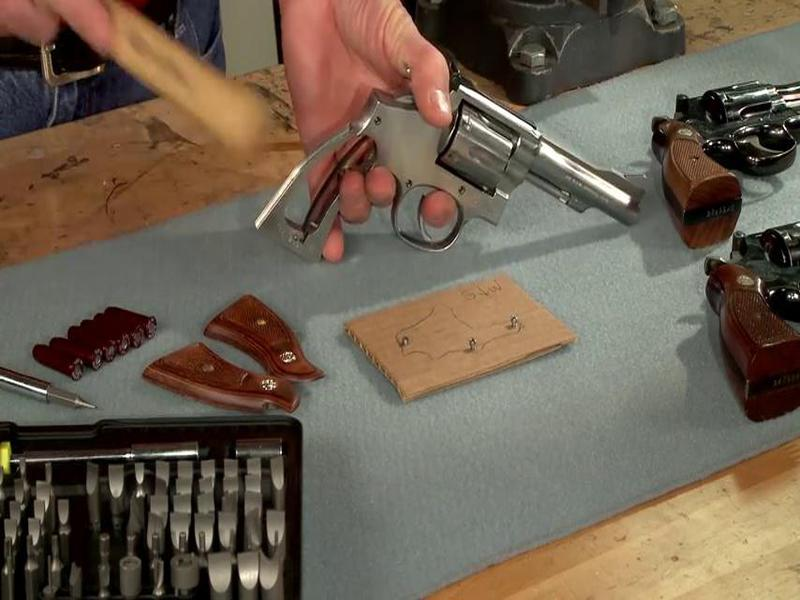Revolver: (242, 48, 662, 301)
